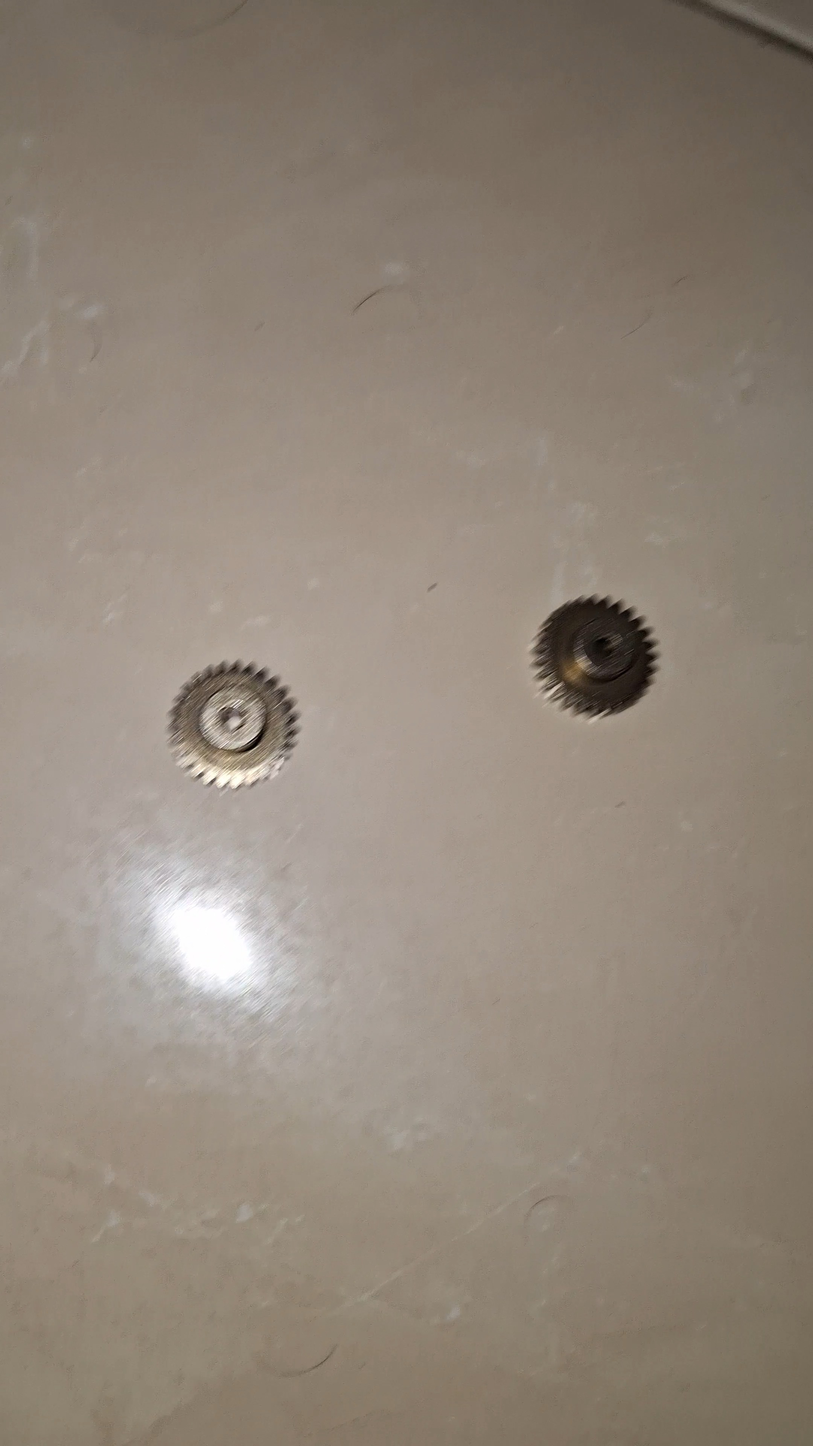spur gear: (168, 662, 297, 789), (532, 596, 656, 716)
